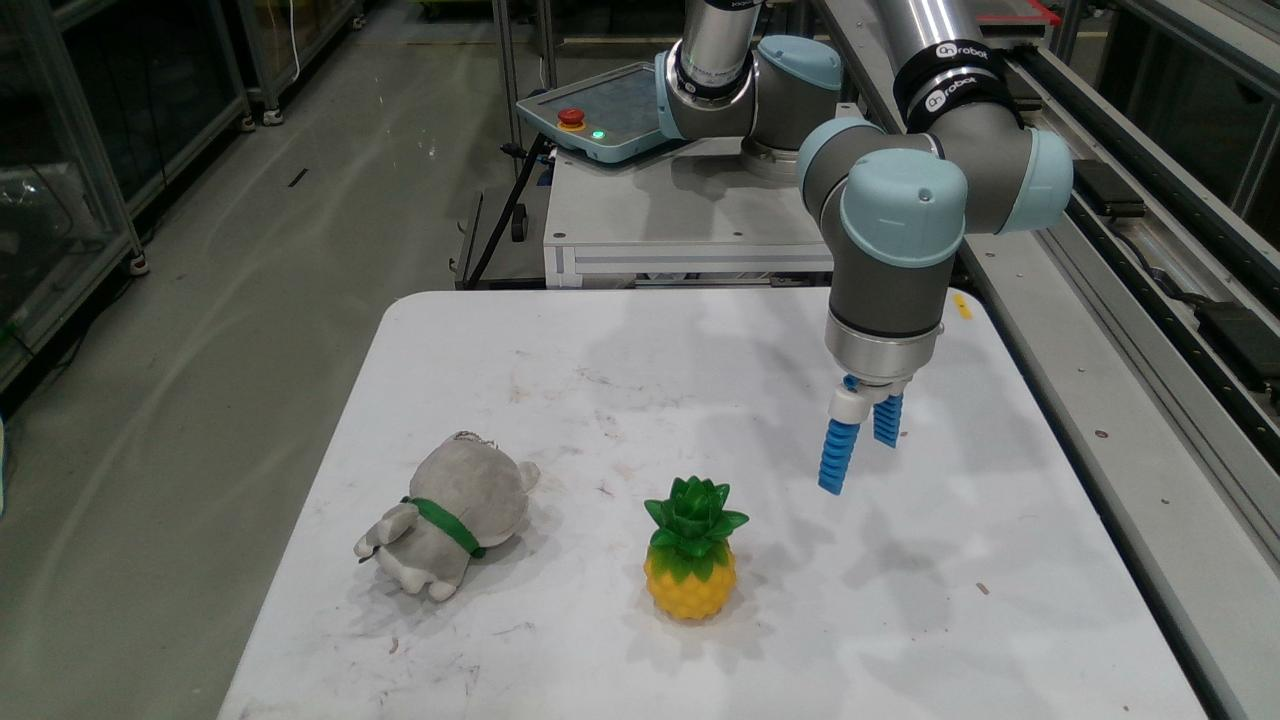UR5: (796, 0, 1071, 423), (656, 0, 842, 182)
gripper_left: (819, 418, 859, 494)
gripper_right: (874, 392, 902, 447)
target: (354, 432, 540, 601), (645, 476, 747, 618)
